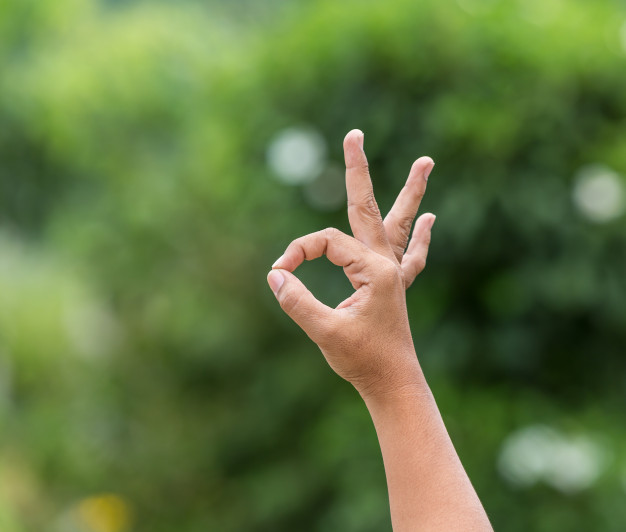oksign: (267, 131, 436, 377)
